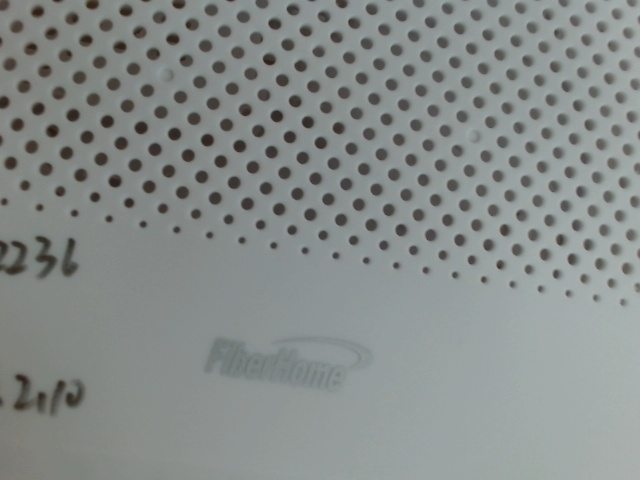AI_FiberHome: (188, 318, 390, 398)
